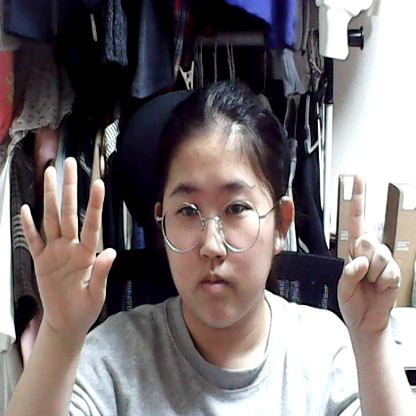Finger_1: (329, 166, 408, 349)
Finger_5: (10, 153, 125, 335)
